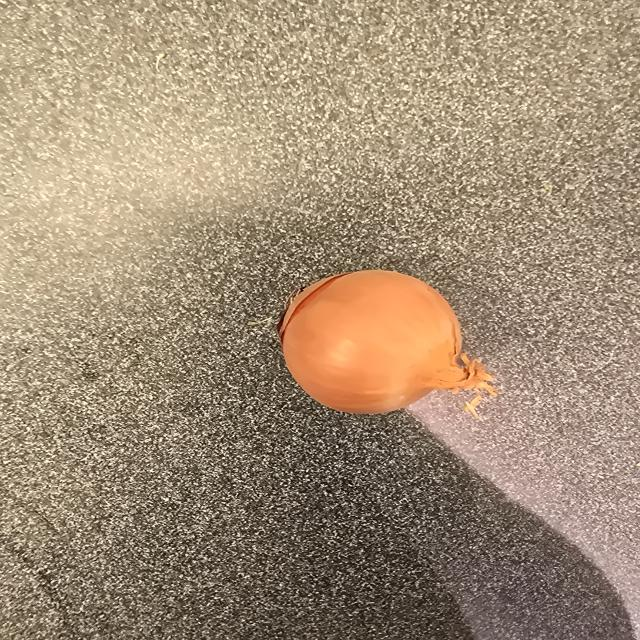Onion: (277, 270, 496, 414)
